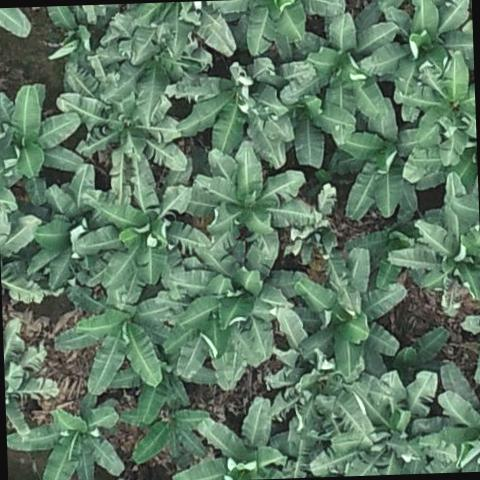Banana-plant: (56, 53, 190, 207), (161, 236, 300, 379), (74, 156, 208, 288), (276, 4, 396, 147), (195, 137, 322, 267), (163, 52, 292, 172), (265, 304, 371, 446), (312, 368, 444, 478), (294, 246, 399, 376), (387, 170, 480, 306), (53, 284, 170, 392), (334, 96, 428, 218), (24, 164, 117, 286), (170, 394, 298, 480), (361, 0, 474, 95), (5, 391, 122, 480), (0, 84, 81, 207), (396, 52, 478, 168), (107, 356, 220, 420), (418, 358, 480, 473), (3, 314, 60, 432), (119, 394, 206, 462)
